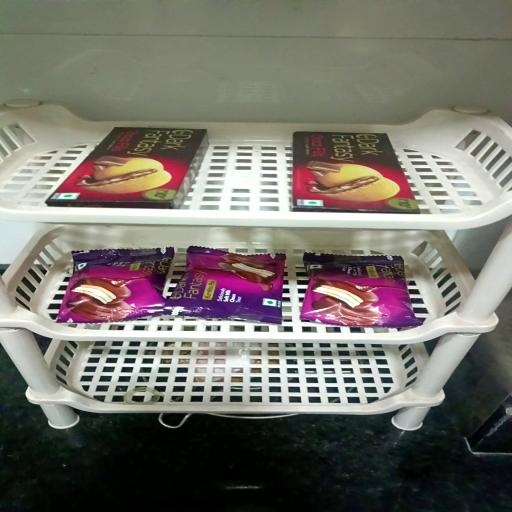Choco Fills: (46, 126, 206, 207), (292, 133, 420, 215)
Choco Pie: (169, 246, 285, 324), (300, 254, 422, 328), (56, 248, 173, 324)
